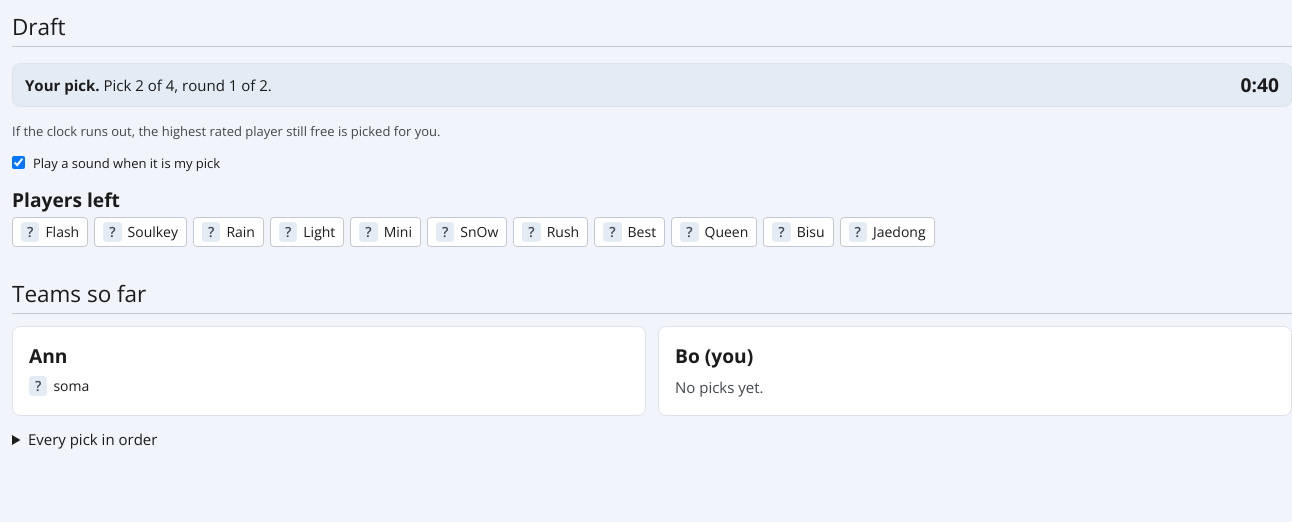
Scenario: draft room › says why a pick was refused
What coordinates should you click on to do the following:
click the button with aria-label "Draft Flash"
I would click on:
 (50, 232)
Its box is x1=12 y1=217 x2=88 y2=247.
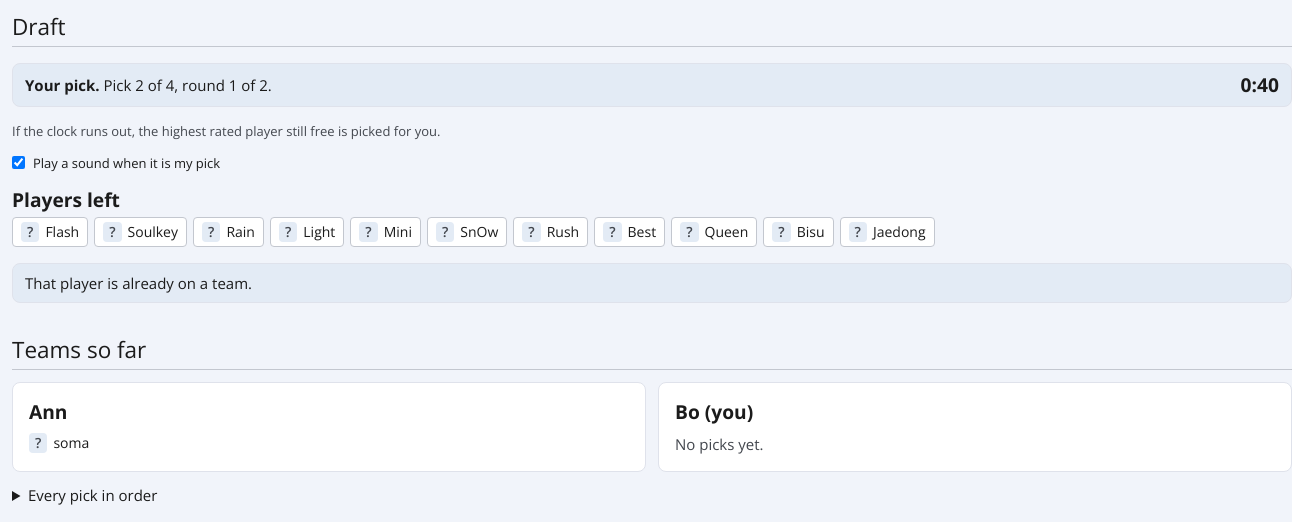
Expected: the text "That player is already on a team." is shown, x1=12 y1=263 x2=1291 y2=303
